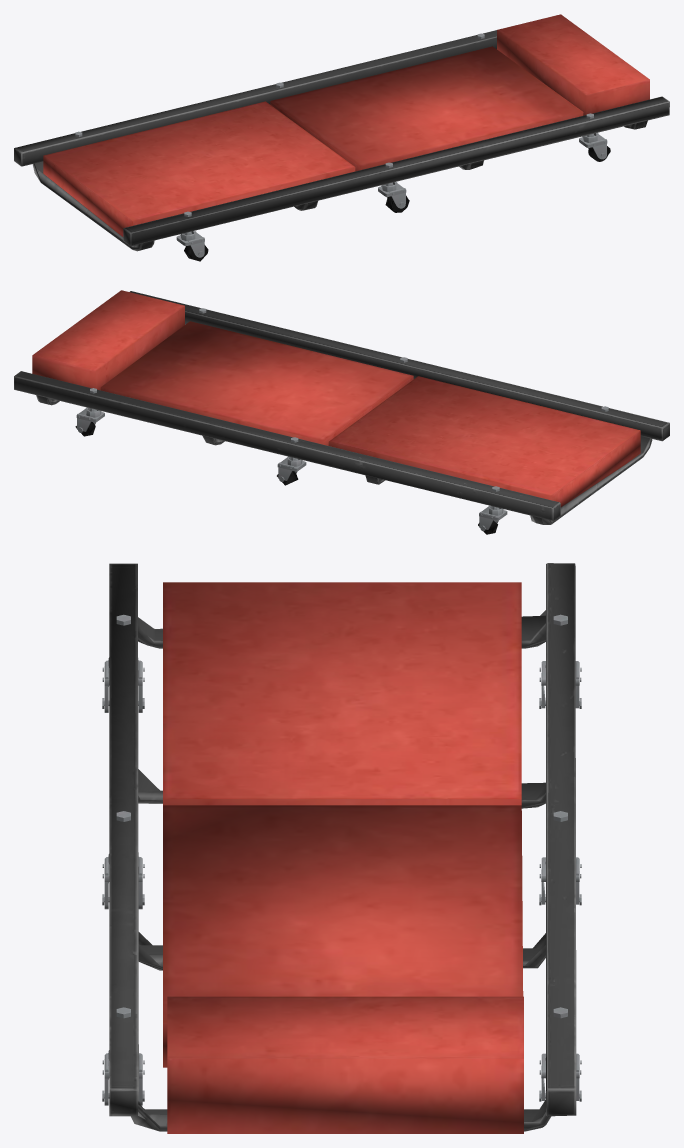
The model's file is mechanic_creeper.glb.
3 renders of one model, top to bottom at view 1: azimuth 30°, elevation 25°; view 2: azimuth 150°, elevation 25°; view 3: azimuth 270°, elevation 25°, orthographic. The views are drawn at different scales.
Visible parts, largest first — view 1: Mattress_M_Mattress_0, Metal_Bars_M_PaintedSteel_0, Casters_M_Steel_0, Wheels_M_Wheels_0; view 2: Mattress_M_Mattress_0, Metal_Bars_M_PaintedSteel_0, Casters_M_Steel_0; view 3: Mattress_M_Mattress_0, Metal_Bars_M_PaintedSteel_0, Casters_M_Steel_0.
Boxes of the visible parts, bbox=[...] form: Mattress_M_Mattress_0: bbox=[43, 14, 649, 236]; Metal_Bars_M_PaintedSteel_0: bbox=[14, 30, 669, 251]; Casters_M_Steel_0: bbox=[75, 33, 607, 257]; Wheels_M_Wheels_0: bbox=[184, 146, 610, 261]; Mattress_M_Mattress_0: bbox=[32, 290, 640, 506]; Metal_Bars_M_PaintedSteel_0: bbox=[14, 291, 669, 524]; Casters_M_Steel_0: bbox=[76, 308, 608, 530]; Mattress_M_Mattress_0: bbox=[163, 582, 523, 1133]; Metal_Bars_M_PaintedSteel_0: bbox=[109, 563, 576, 1131]; Casters_M_Steel_0: bbox=[102, 614, 581, 1105].
Bounding box in the file's own units: 1.2 × 0.1259 × 0.4613.
4 materials, 3 textured.
